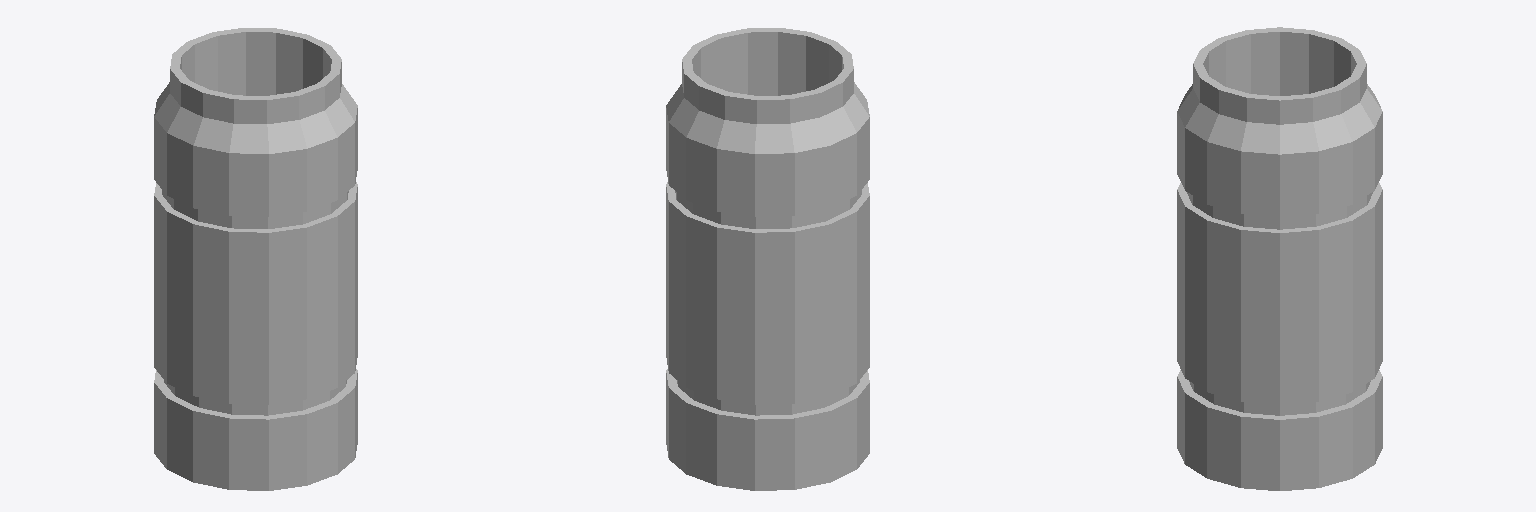
The model's file is trashcan.obj.
3 views of the same model, side by side, from view 1: azimuth 30°, elevation 25°; view 2: azimuth 150°, elevation 25°; view 3: azimuth 270°, elevation 25° (orthographic).
Parts seen in each view (by area): view 1: Cylinder1; view 2: Cylinder1; view 3: Cylinder1.
Boxes of the visible parts, x1=… form: Cylinder1: x1=154, y1=28, x2=357, y2=490; Cylinder1: x1=666, y1=28, x2=869, y2=490; Cylinder1: x1=1177, y1=27, x2=1382, y2=490.
Bounding box in the file's own units: 1.2 × 2.48 × 1.2.